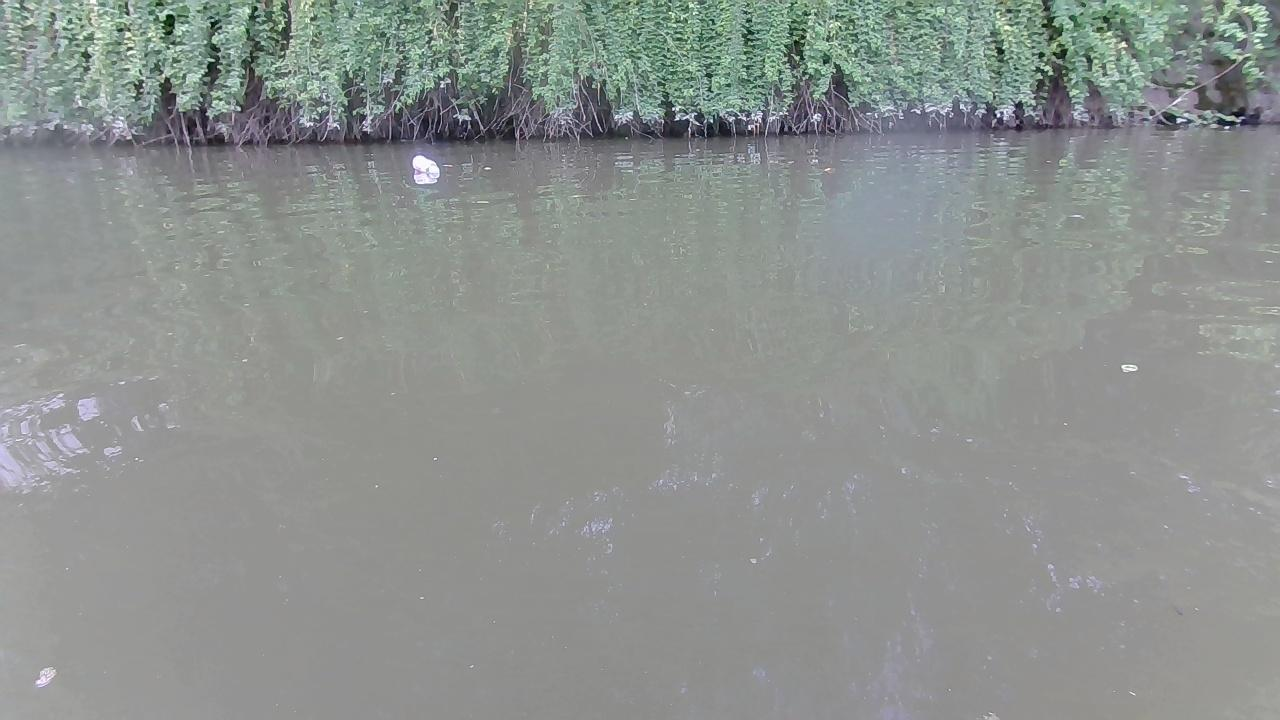bottle: (411, 154, 441, 178)
